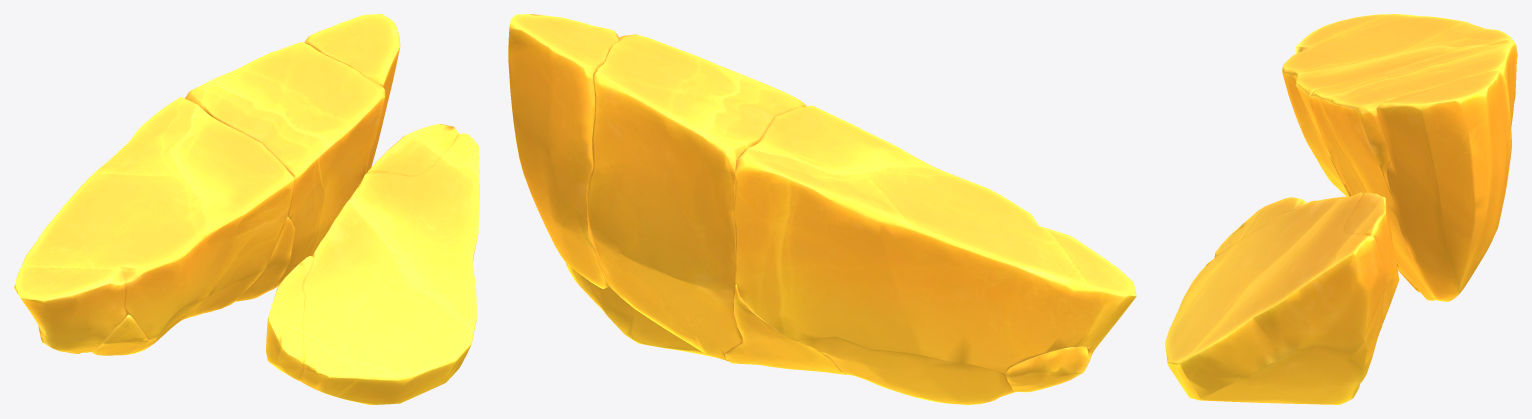
File: odk_calcite_c.glb
3 views of the same model, side by side, from view 1: azimuth 30°, elevation 25°; view 2: azimuth 150°, elevation 25°; view 3: azimuth 270°, elevation 25° (orthographic). The views are drawn at different scales.
Visible parts, largest first — view 1: odk_calcite_c; view 2: odk_calcite_c; view 3: odk_calcite_c.
Part boxes in pixels (x1=…): odk_calcite_c: x1=14, y1=14, x2=479, y2=404; odk_calcite_c: x1=508, y1=14, x2=1136, y2=404; odk_calcite_c: x1=1165, y1=14, x2=1517, y2=404.
Bounding box in the file's own units: 35.9 × 20.96 × 19.17.
1 material, 1 textured.
